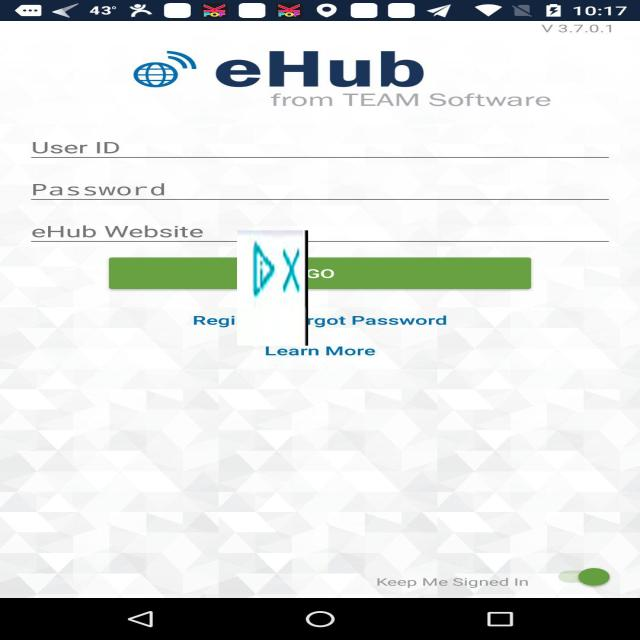sneaking: (237, 230, 308, 346)
